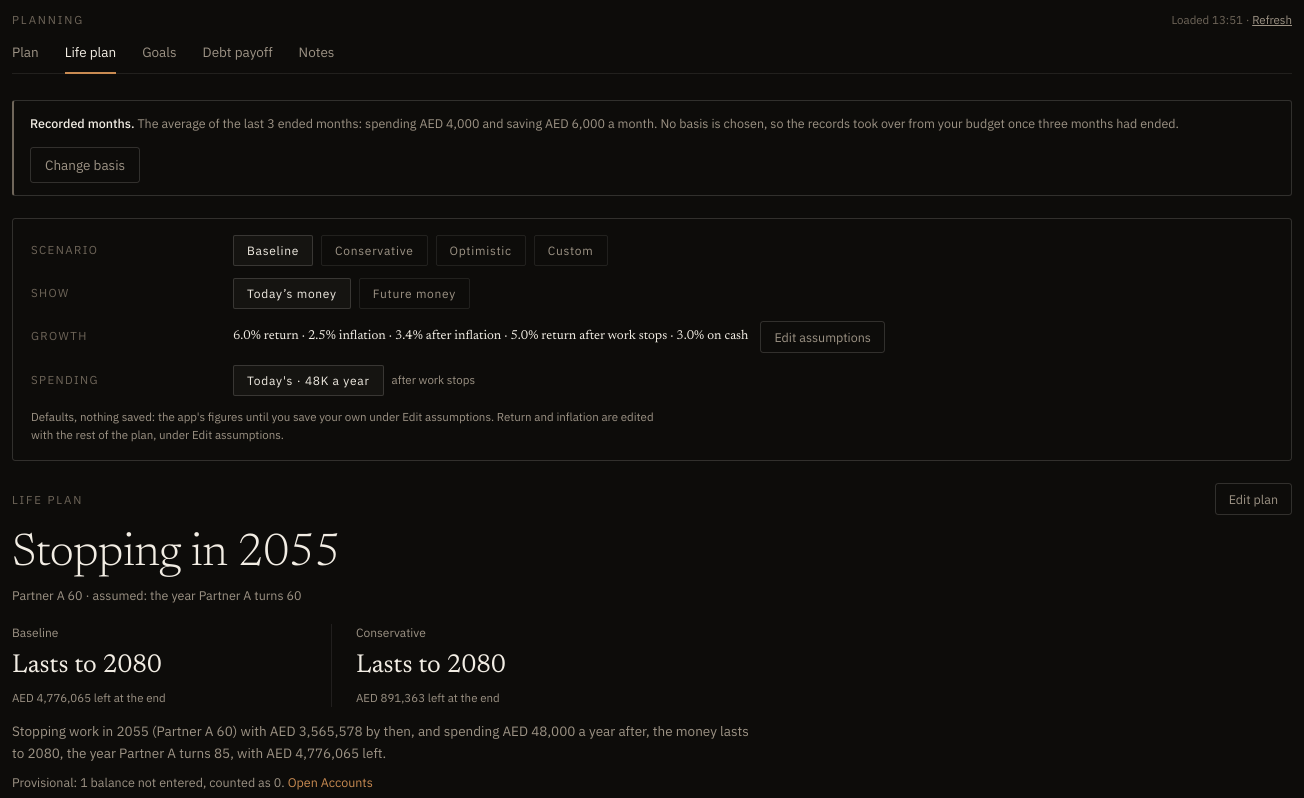
Test: Planning tabs and the assumptions bar › says the assumptions are defaults until saved, and a scenario is only a look for now
The width and height of the screenshot is (1304, 798).
Expected: the element named "Assumptions" shows "Defaults, nothing saved: the app's figures until you save your own under Edit assumptions. Return and inflation are edited with the rest of the plan, under Edi", x1=31 y1=409 x2=654 y2=442
Expected: the element with class "dd-control" shows "6.0% return · 2.5% inflation · 3.4% after inflation · 5.0% return after work stops", x1=31 y1=321 x2=885 y2=353
What coordinates should you click on to do the following:
click the button "Conservative"
I would click on:
 (374, 250)
Its box is x1=321 y1=235 x2=428 y2=266.
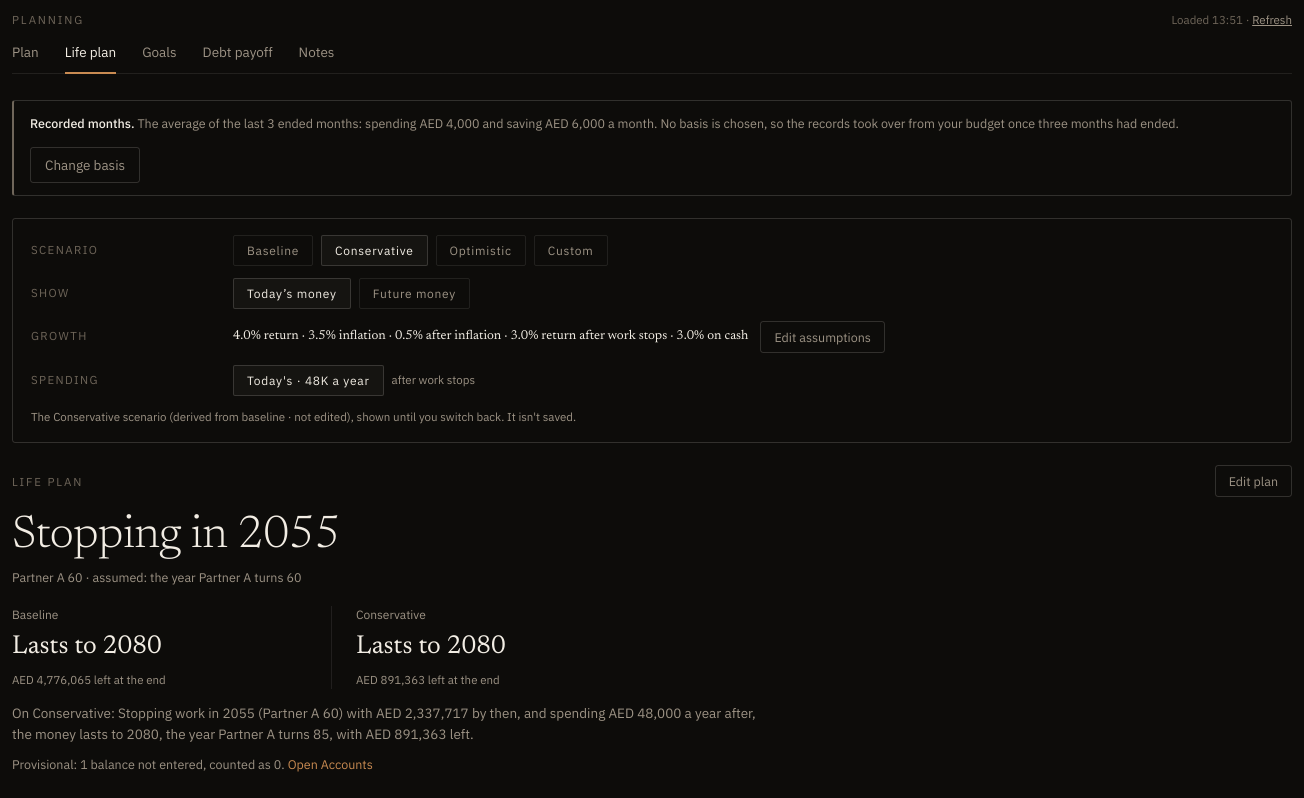
Expected: the element named "Assumptions" shows "The Conservative scenario (derived from baseline · not edited), shown until you switch back. It isn't saved.", x1=31 y1=409 x2=576 y2=424
